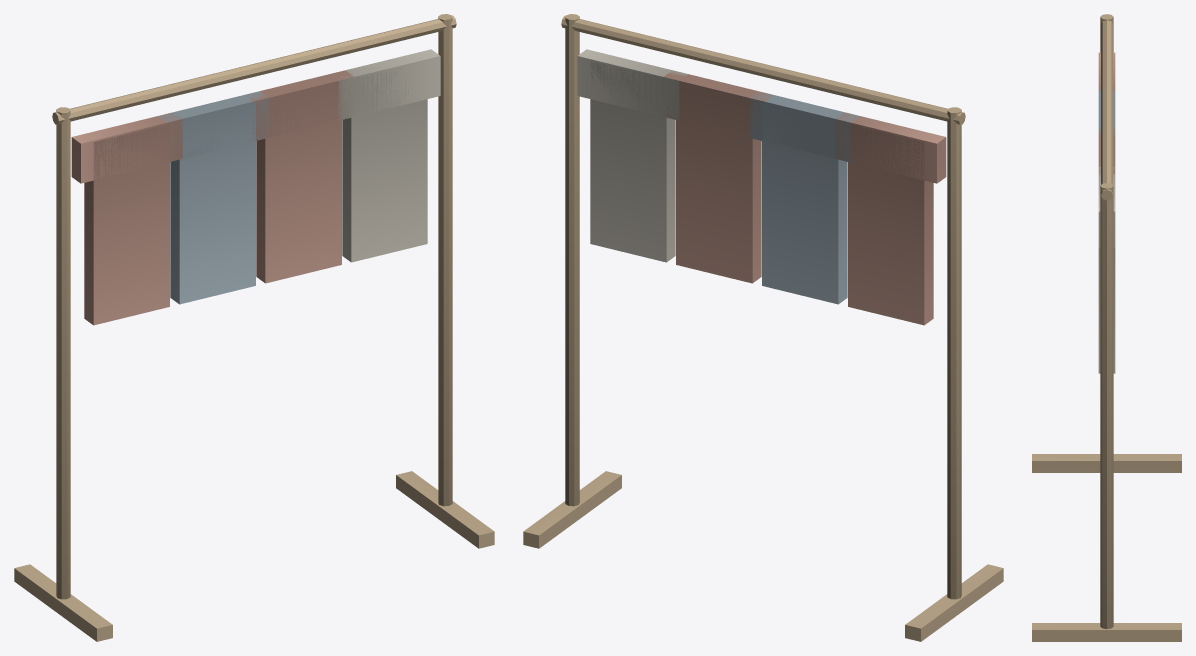
File: furn_hanger_rack__oak.glb
3 views of the same model, side by side, from view 1: azimuth 30°, elevation 25°; view 2: azimuth 150°, elevation 25°; view 3: azimuth 270°, elevation 25° (orthographic). The views are drawn at different scales.
Bounding box in the file's own units: 1.25 × 1.5 × 0.45.
